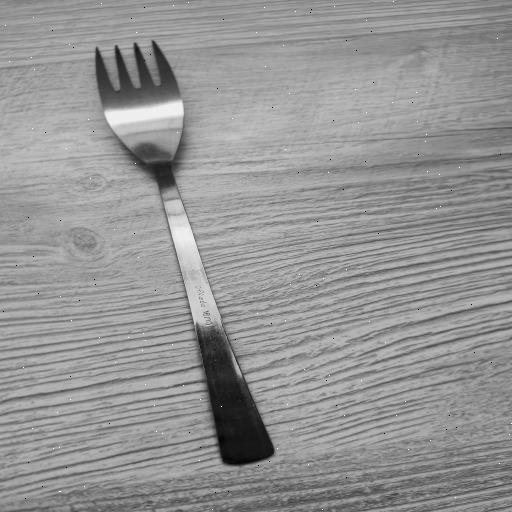fork: (91, 36, 282, 466)
